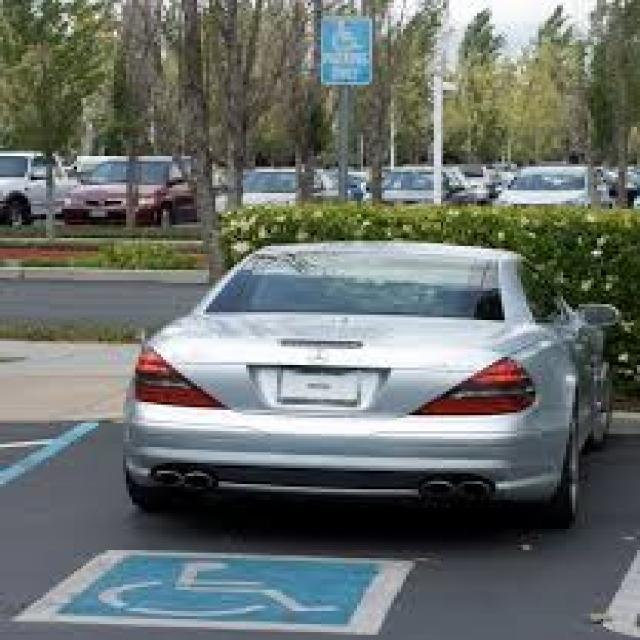symbol_of_access: (102, 554, 346, 626), (331, 20, 366, 50)
